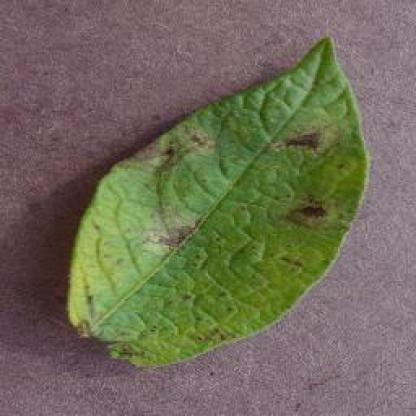bad leaf: (81, 28, 362, 365)
